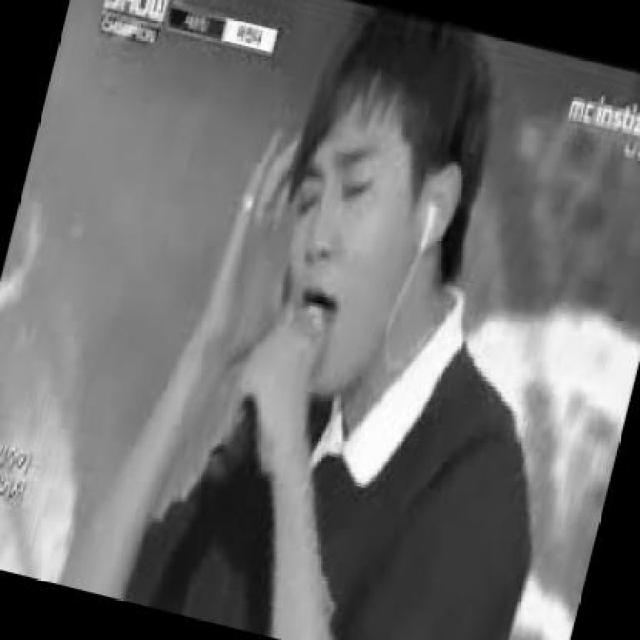earphone: (402, 190, 445, 254)
